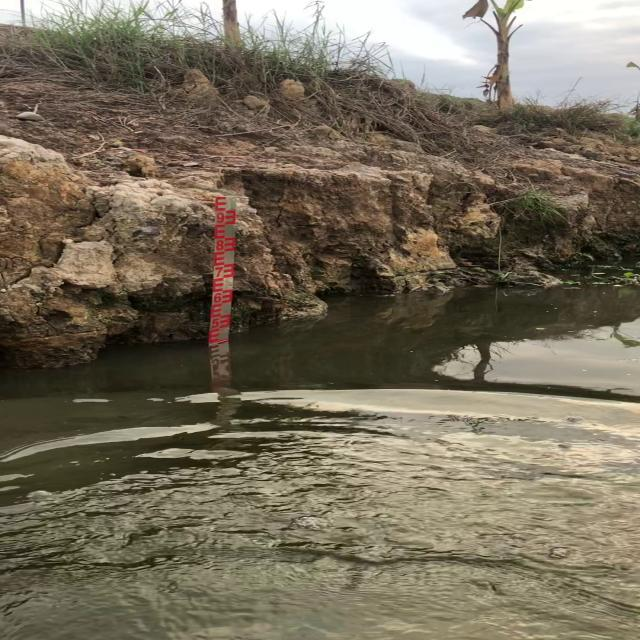ruler: (201, 187, 242, 344)
value: (214, 210, 226, 224), (209, 316, 221, 330), (211, 290, 222, 305), (214, 238, 225, 252), (213, 266, 224, 280)
